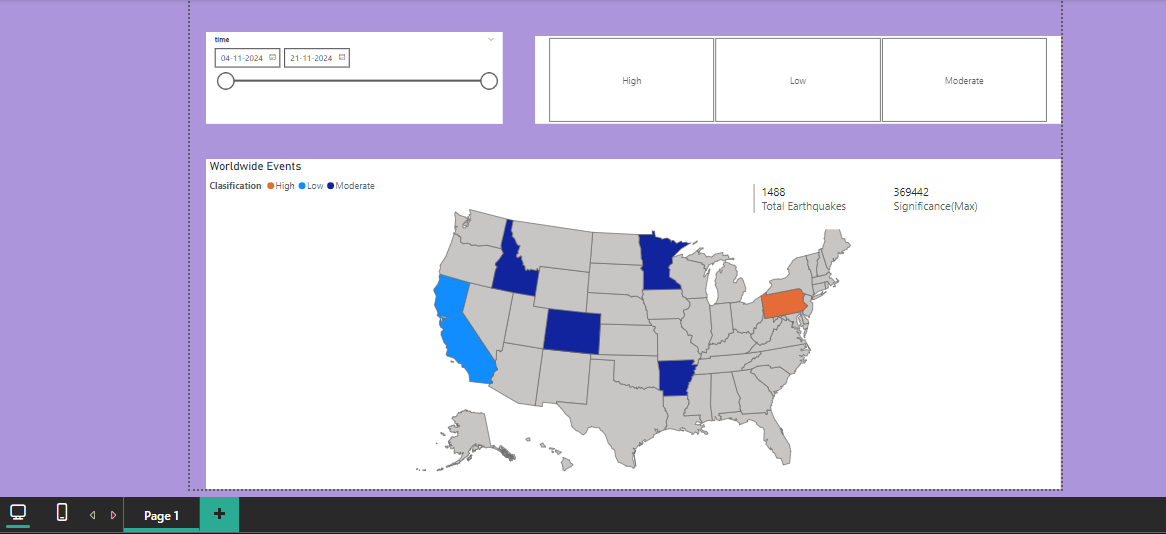

Layout of this report page (visuals, bound fields, positions):
{"tool":"powerbi","page":{"name":"Page 1","canvas":[1280,720],"ordinal":0},"visuals":[{"type":"shapeMap","title":"Worldwide Events","fields":{"Category":["earthquake_events_gold.country_code"],"Series":["earthquake_events_gold.sig_class"],"Value":["Max(earthquake_events_gold.sig)"]},"box":[23.5,235.1,1256.3,484.9],"z":0},{"type":"slicer","fields":{"Values":["earthquake_events_gold.time"]},"box":[23.5,48.5,436.4,135.2],"z":1000},{"type":"slicer","fields":{"Values":["earthquake_events_gold.sig_class"]},"box":[506.9,54.4,772.9,129.3],"z":2000},{"type":"multiRowCard","fields":{"Values":["earthquake_events_gold.id","Sum(earthquake_events_gold.sig)"]},"box":[822.9,267.4,410,70.5],"z":3000}]}

Visuals, with their boxes on the page's 1280x720 design canvas (x1, y1, x2, y2). These are canvas units, not pixel positions in the 1166x534 screenshot, which may show the page scaled, cropped or inside an application window:
"Worldwide Events" shapeMap: 24:235:1280:720
slicer - earthquake_events_gold.time: 24:48:460:184
slicer - earthquake_events_gold.sig_class: 507:54:1280:184
multiRowCard - earthquake_events_gold.id x Sum(earthquake_events_gold.sig): 823:267:1233:338
